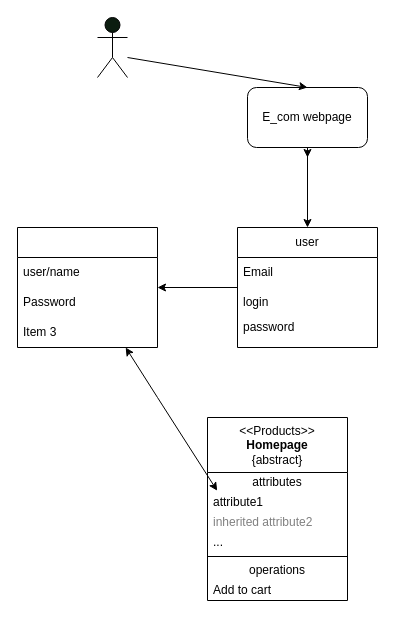
This 395x618 diagram has some shape labels left out. Each missing label, with the box of its shape:
Actor: (96, 16, 128, 78)
Athentication: (16, 226, 158, 348)
